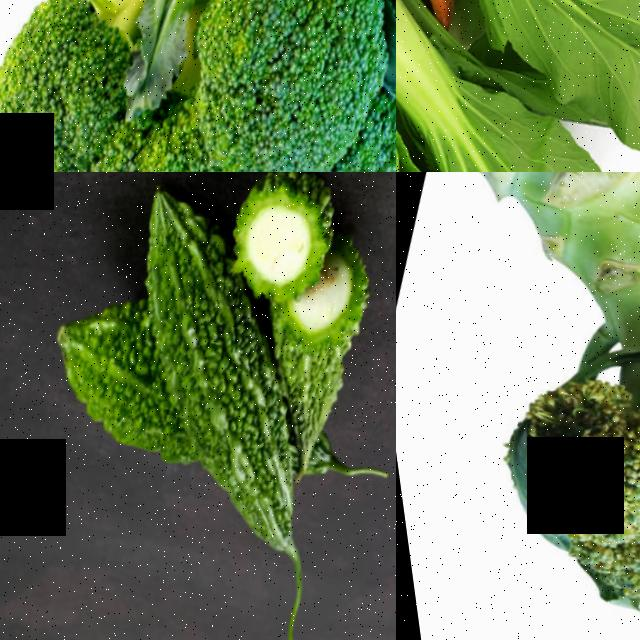bitter gourd: (4, 326, 166, 484), (170, 407, 318, 573), (255, 293, 367, 425)
bok choy: (404, 0, 640, 163)
broccoli: (396, 172, 640, 640), (0, 0, 396, 172)
